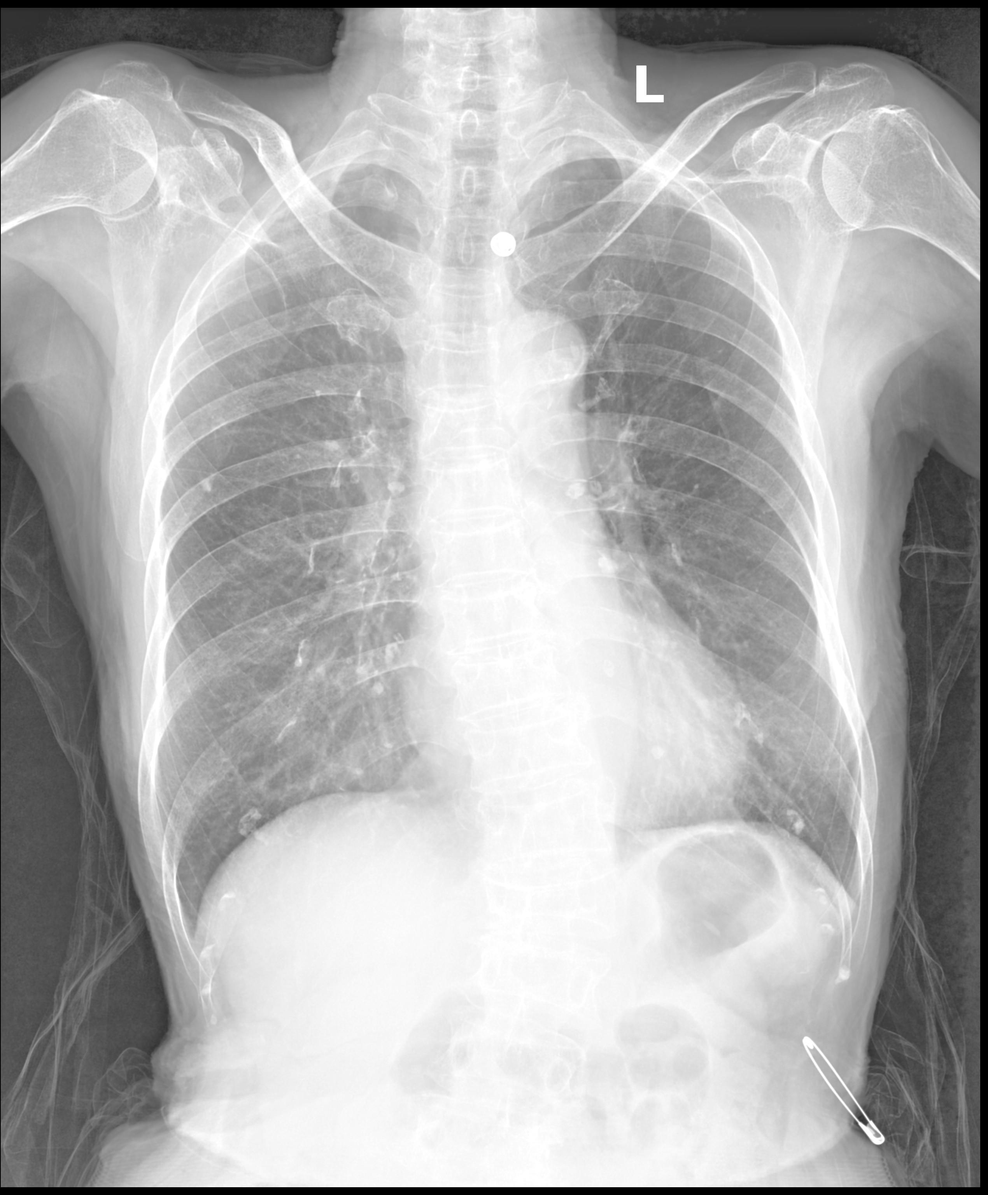Pleural thickening: (250, 150, 371, 215)
